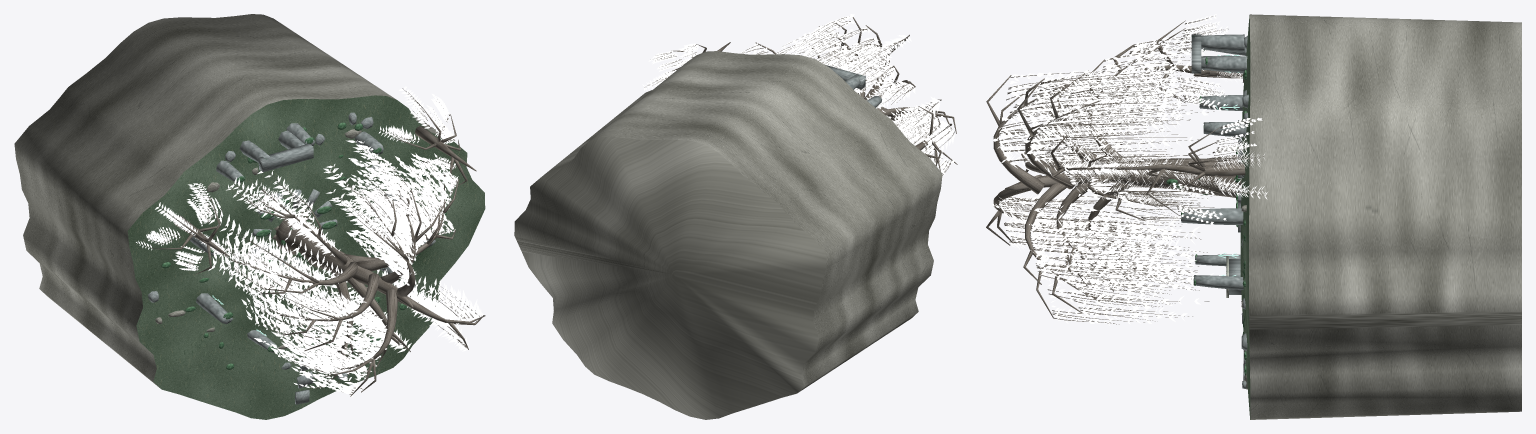
The model's file is White_Willow_Druidic_Grove.glb.
3 views of the same model, side by side, from view 1: azimuth 30°, elevation 25°; view 2: azimuth 150°, elevation 25°; view 3: azimuth 270°, elevation 25° (orthographic). The views are drawn at different scales.
Visible parts, largest first — view 1: rock, grass, leaves, bark, stone, moss; view 2: rock, leaves, bark, stone; view 3: rock, leaves, bark, stone, grass.
Boxes of the visible parts, <box> form: rock: <box>14,14,451,387</box>; grass: <box>127,95,485,419</box>; leaves: <box>136,86,483,396</box>; bark: <box>137,88,485,396</box>; stone: <box>148,112,435,404</box>; moss: <box>161,122,446,369</box>; rock: <box>514,51,942,419</box>; leaves: <box>642,14,954,176</box>; bark: <box>644,17,957,175</box>; stone: <box>825,65,881,107</box>; rock: <box>1241,14,1521,419</box>; leaves: <box>992,14,1267,326</box>; bark: <box>986,16,1268,324</box>; stone: <box>1181,34,1248,389</box>; grass: <box>1240,15,1250,419</box>.
Size of the model in its own units: 73.97 by 62.49 by 84.73.
Materials: 8 (8 with a texture image).
